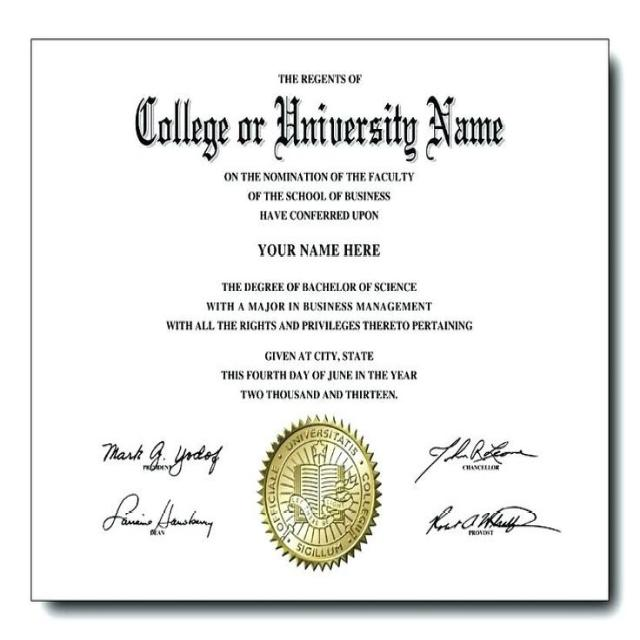signature: (96, 427, 222, 482), (106, 484, 223, 543), (428, 491, 556, 541), (422, 426, 540, 474)
stamp: (250, 421, 385, 573)
